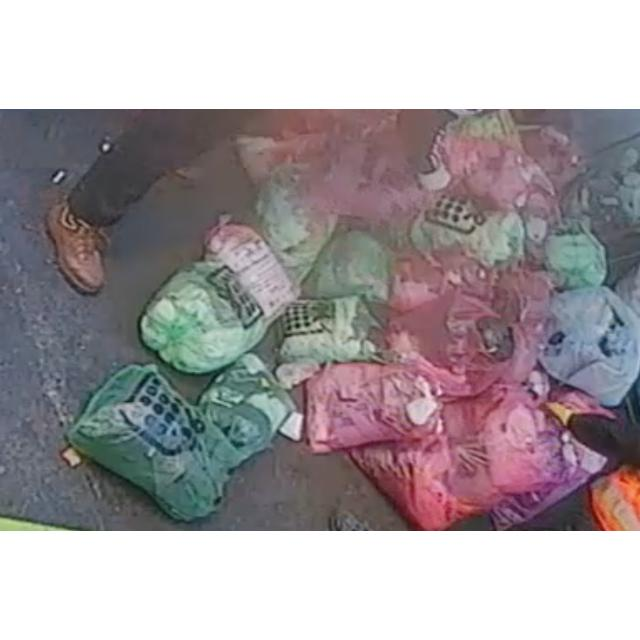general_trashbag: (69, 365, 222, 518), (139, 262, 268, 373), (198, 353, 295, 470), (410, 195, 525, 266), (280, 295, 381, 363), (302, 230, 389, 302), (545, 220, 606, 288)
other_trashbag: (348, 382, 605, 530), (540, 286, 640, 406), (305, 363, 439, 452), (205, 215, 299, 322)
